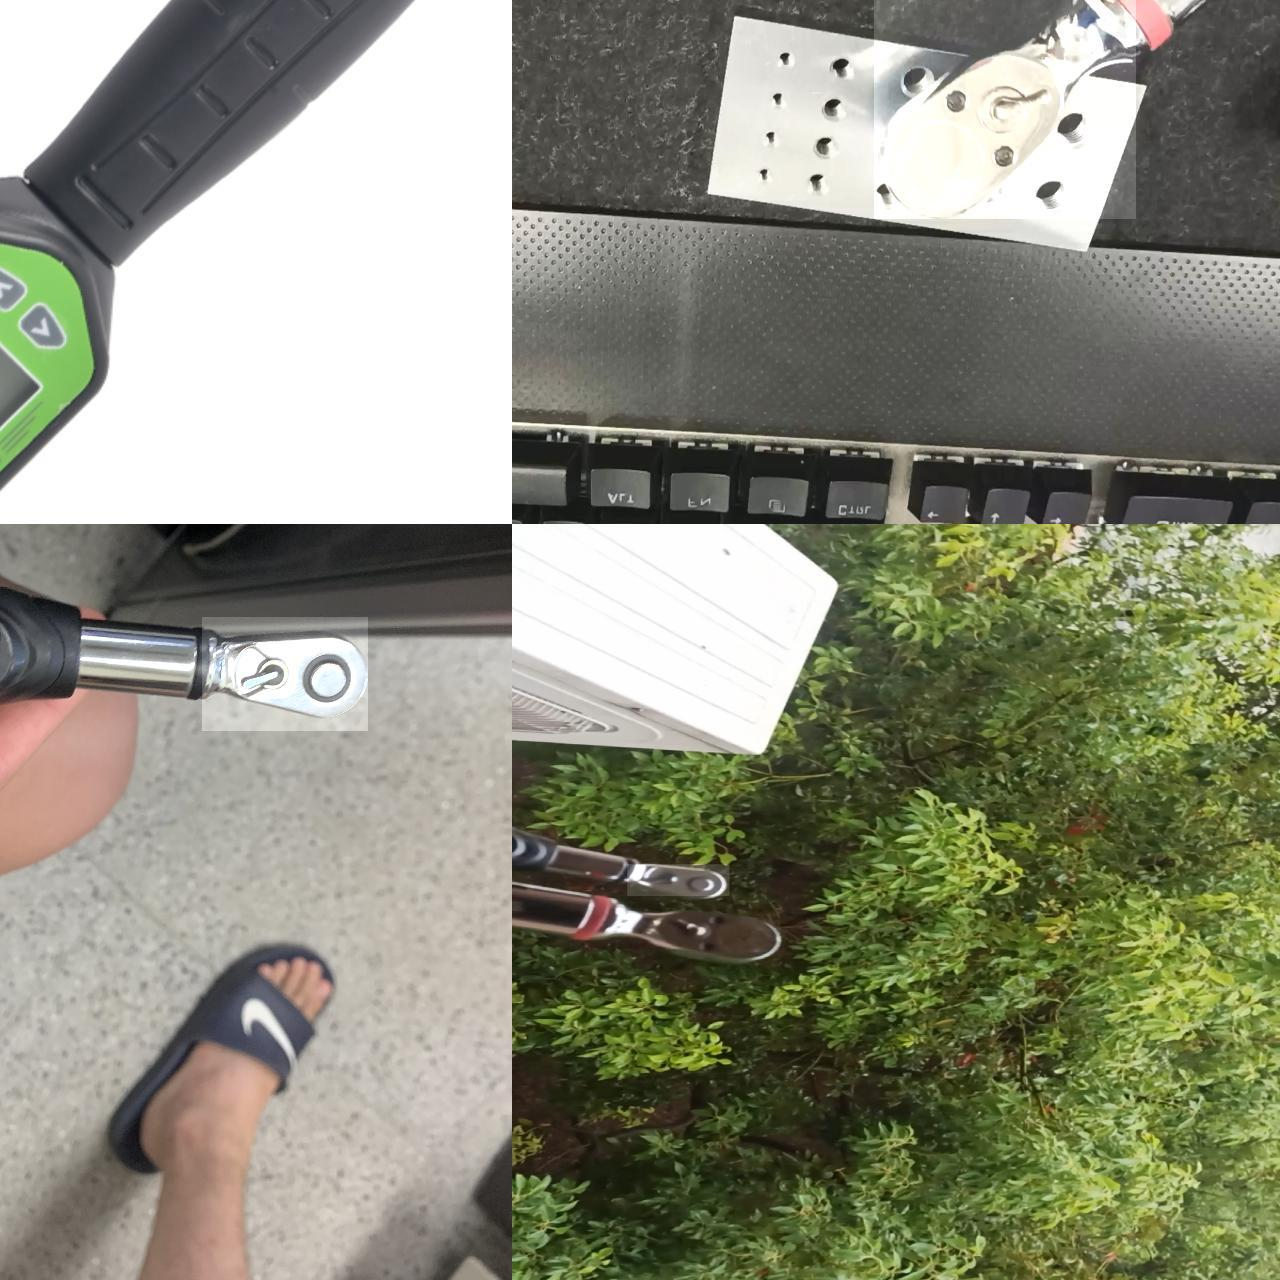Tool: (874, 0, 1136, 219), (202, 617, 368, 731), (601, 904, 780, 960), (627, 864, 730, 896)
hole: (892, 57, 943, 107), (1055, 104, 1104, 153), (1029, 173, 1075, 215), (868, 176, 906, 212), (822, 49, 858, 80), (815, 93, 849, 125), (810, 129, 843, 159), (801, 168, 832, 198), (755, 125, 782, 150), (747, 165, 775, 189), (762, 87, 788, 112), (768, 45, 794, 70)
